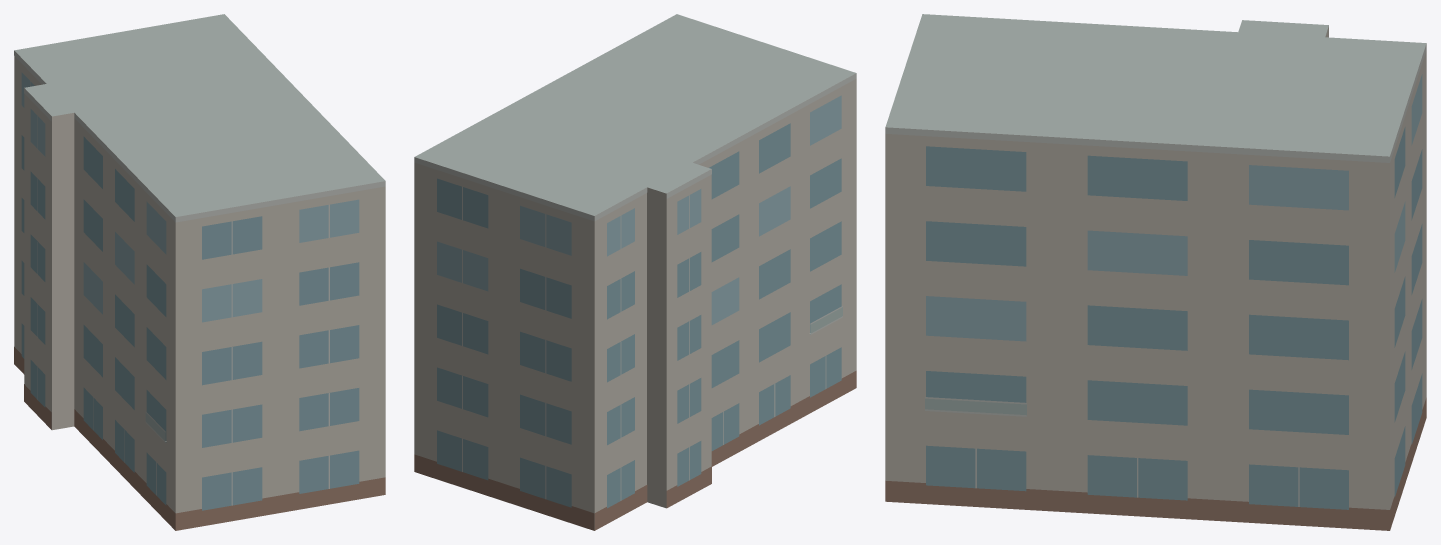
File: survey-upis-32751533.glb
3 views of the same model, side by side, from view 1: azimuth 30°, elevation 25°; view 2: azimuth 150°, elevation 25°; view 3: azimuth 270°, elevation 25° (orthographic). The views are drawn at different scales.
Parts seen in each view (by area): view 1: survey-upis-32751533.tmp; view 2: survey-upis-32751533.tmp; view 3: survey-upis-32751533.tmp.
Boxes of the visible parts, <box> form: survey-upis-32751533.tmp: <box>14,14,385,530</box>; survey-upis-32751533.tmp: <box>414,14,856,530</box>; survey-upis-32751533.tmp: <box>885,14,1426,530</box>.
Size of the model in its own units: 11.58 by 14.16 by 18.57.
